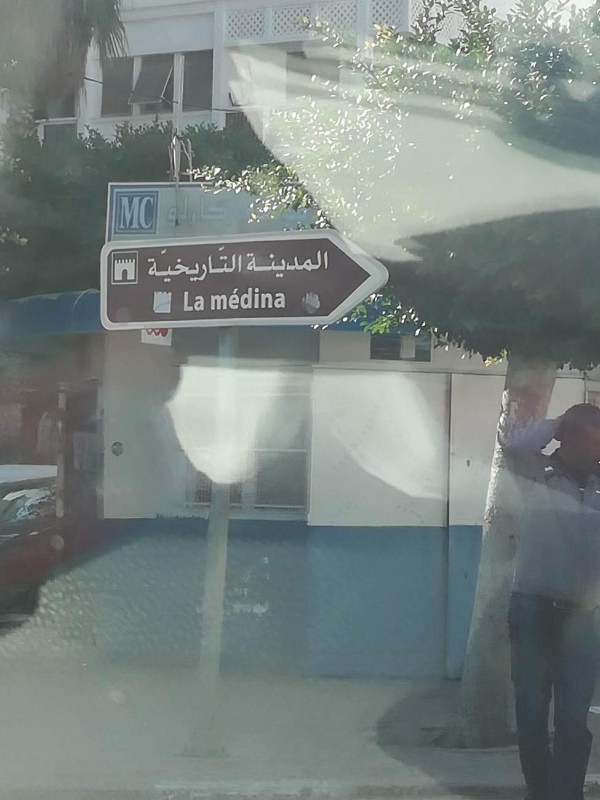text: (161, 245, 176, 284), (177, 245, 192, 284), (193, 245, 208, 284), (209, 245, 224, 284), (225, 245, 240, 284), (177, 194, 192, 229), (193, 194, 208, 229), (209, 194, 224, 229), (129, 196, 144, 230), (148, 245, 160, 284), (257, 249, 272, 280), (273, 249, 288, 280), (289, 249, 304, 280), (305, 249, 320, 280), (225, 285, 240, 311), (241, 285, 256, 311), (257, 285, 272, 311), (273, 285, 288, 311), (244, 249, 256, 280), (210, 285, 224, 311), (166, 194, 176, 229), (118, 196, 128, 230), (145, 196, 155, 230), (193, 290, 206, 313), (321, 249, 329, 280), (183, 290, 192, 313), (225, 194, 228, 229), (241, 245, 243, 284)
